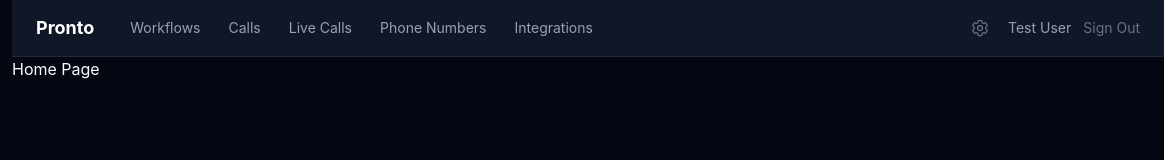
AppShell › navigates when nav links are clicked
Expected: the text "Home Page" is shown, [12,59,100,79]
Click the link with test id "nav-workflows" at (165, 28), box [130,19,200,36]
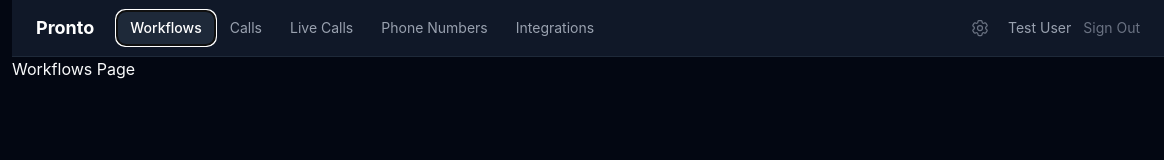
Now the text "Workflows Page" is shown, box [12,59,135,79]
Click the link with test id "nav-calls" at (246, 28), box [230,19,262,36]
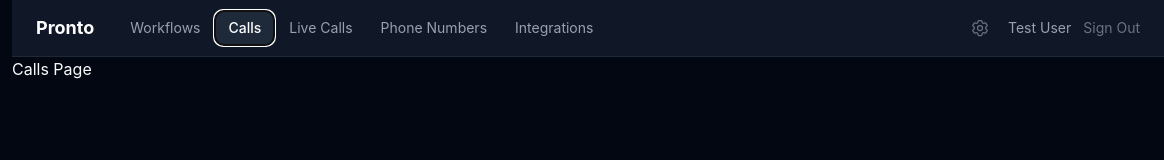
Now the text "Calls Page" is shown, box [12,59,92,79]
